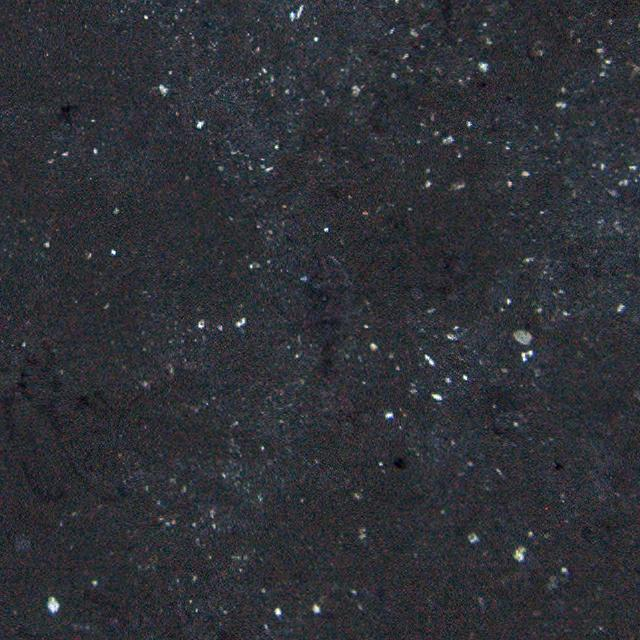flatfish: (304, 250, 359, 378)
